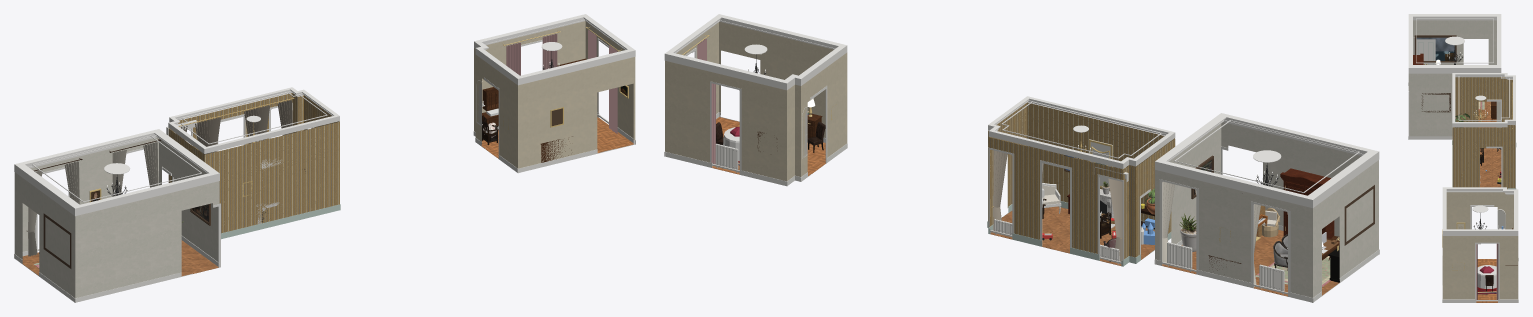
File: piece_chambres.glb
3 views of the same model, side by side, from view 1: azimuth 30°, elevation 25°; view 2: azimuth 150°, elevation 25°; view 3: azimuth 270°, elevation 25° (orthographic). The views are drawn at different scales.
Visible parts, largest first — view 1: chambre_3_peinture, chambre_1_peinture, chambre_2_papier_peint, chambre_3_corniche, chambre_1_corniche, chambre_2_corniche, chambre_3_plinthes, chambre_3_parquet, chambre_3_rideaux_EO_-5.2, chambre_3_rideaux_EO_-8.8, chambre_1_parquet, chambre_1_rideaux_EO_14.4 (+6 smaller); view 2: chambre_3_peinture, chambre_1_peinture, chambre_2_papier_peint, chambre_3_corniche, chambre_1_corniche, chambre_2_corniche, chambre_2_chambranles, chambre_2_parquet, chambre_3_chambranles, chambre_3_parquet, chambre_3_armoire, chambre_1_chambranles (+11 smaller); view 3: chambre_1_peinture, chambre_2_papier_peint, chambre_3_peinture, chambre_3_corniche, chambre_1_corniche, chambre_2_corniche, chambre_2_parquet, chambre_3_tableau_marine, chambre_3_porte_ouest, chambre_1_chambranles, chambre_1_table_ronde, chambre_1_parquet (+17 smaller).
Part boxes in pixels (x1,y1,x2,y2): chambre_3_peinture: [14, 137, 219, 298]; chambre_1_peinture: [474, 21, 635, 168]; chambre_2_papier_peint: [168, 93, 339, 233]; chambre_3_corniche: [14, 129, 219, 216]; chambre_1_corniche: [474, 14, 635, 85]; chambre_2_corniche: [168, 87, 339, 153]; chambre_3_plinthes: [14, 236, 220, 302]; chambre_3_parquet: [22, 240, 218, 276]; chambre_3_rideaux_EO_-5.2: [109, 139, 160, 196]; chambre_3_rideaux_EO_-8.8: [27, 158, 82, 256]; chambre_1_parquet: [481, 117, 633, 158]; chambre_1_rideaux_EO_14.4: [503, 30, 560, 75]; chambre_3_peinture: [1155, 122, 1378, 297]; chambre_1_peinture: [665, 21, 847, 181]; chambre_2_papier_peint: [988, 102, 1175, 259]; chambre_3_corniche: [1155, 113, 1379, 208]; chambre_1_corniche: [664, 14, 847, 90]; chambre_2_corniche: [988, 96, 1175, 168]; chambre_2_chambranles: [988, 147, 1150, 263]; chambre_2_parquet: [990, 206, 1154, 265]; chambre_3_chambranles: [1159, 146, 1290, 294]; chambre_3_parquet: [1162, 230, 1339, 296]; chambre_3_armoire: [1280, 168, 1334, 238]; chambre_1_chambranles: [685, 48, 827, 172]; chambre_1_peinture: [1442, 192, 1518, 299]; chambre_2_papier_peint: [1452, 77, 1515, 189]; chambre_3_peinture: [1408, 20, 1500, 136]; chambre_3_corniche: [1408, 14, 1501, 73]; chambre_1_corniche: [1442, 187, 1518, 235]; chambre_2_corniche: [1452, 73, 1515, 127]; chambre_2_parquet: [1480, 148, 1501, 187]; chambre_3_tableau_marine: [1414, 35, 1456, 62]; chambre_3_porte_ouest: [1413, 37, 1436, 64]; chambre_1_chambranles: [1470, 205, 1499, 301]; chambre_1_table_ronde: [1477, 265, 1496, 288]; chambre_1_parquet: [1476, 259, 1497, 302].
Size of the model in its own units: 25.84 by 4 by 5.54.
Materials: 74 (35 with a texture image).
